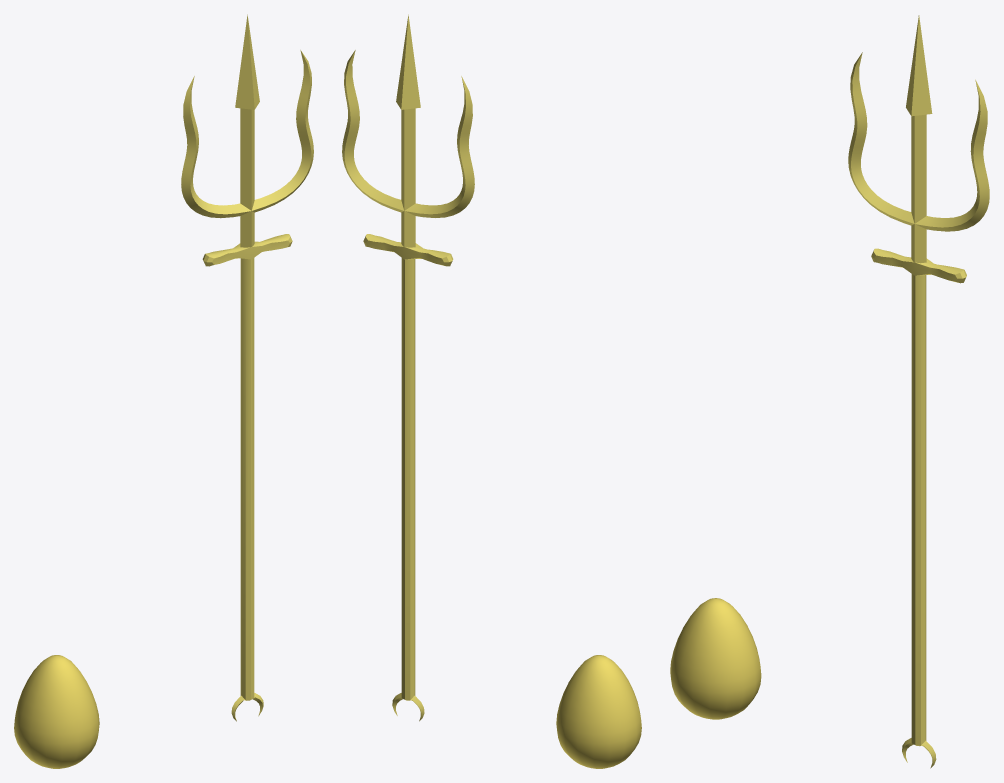
File: T1ForLin.fbx
3 renders of one model, left to right at view 1: azimuth 30°, elevation 25°; view 2: azimuth 150°, elevation 25°; view 3: azimuth 330°, elevation 25°, orthographic. The views are drawn at different scales.
Parts seen in each view (by area): view 1: Cube.001, Golden Egg; view 2: Cube.001, Golden Egg; view 3: Cube.001, Golden Egg.
Boxes of the visible parts, x1,y1,x2,y2 form: Cube.001: (181, 14, 313, 721); Golden Egg: (14, 655, 99, 768); Cube.001: (342, 14, 474, 721); Golden Egg: (556, 655, 641, 768); Cube.001: (848, 15, 989, 768); Golden Egg: (670, 598, 761, 719).
Bounding box in the file's own units: 111 × 255 × 28.26.
